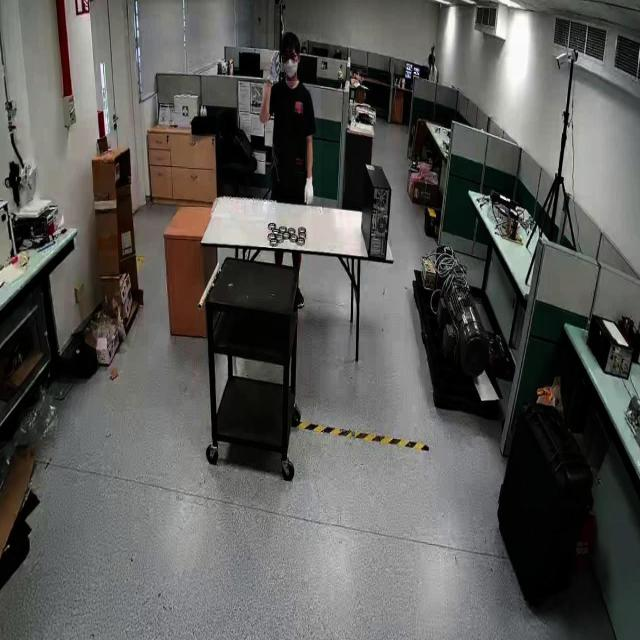face_mask: (282, 50, 300, 82)
hand_glove: (301, 170, 317, 212), (261, 62, 275, 88)
head_nohelmet: (280, 31, 300, 51), (428, 52, 435, 58)
person: (262, 34, 322, 204)
